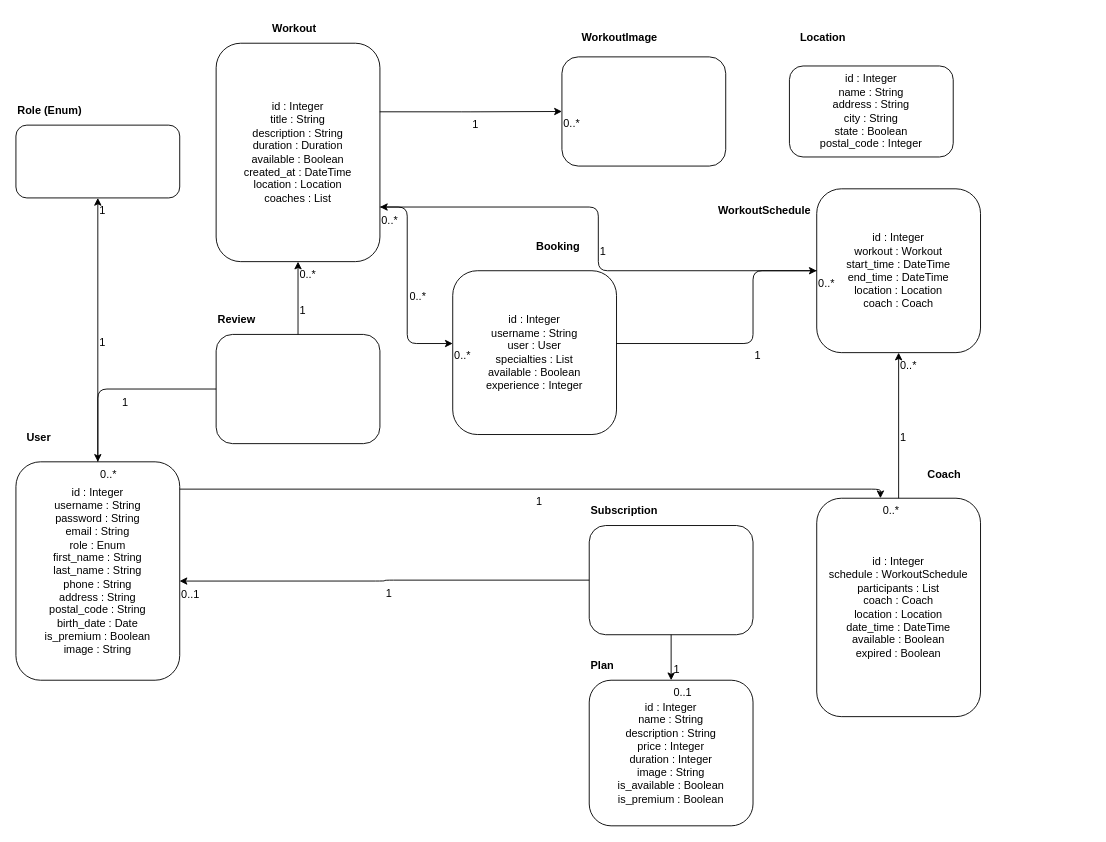
The diagram is 1106 pixels wide and 842 high, and some of its shapes have lost their labels. The shapes that lost their labels are listed below. From the top down, each one's centre as x and y in pixels, then its label:
(643,111): id : Integer workout : Workout image : String description : String
(97,161): User Employee Admin
(297,389): id : Integer user : User workout : Workout content : String date_time : DateTime
(670,580): id : Integer user : User plan : Plan start_date : Date payment_status : String
